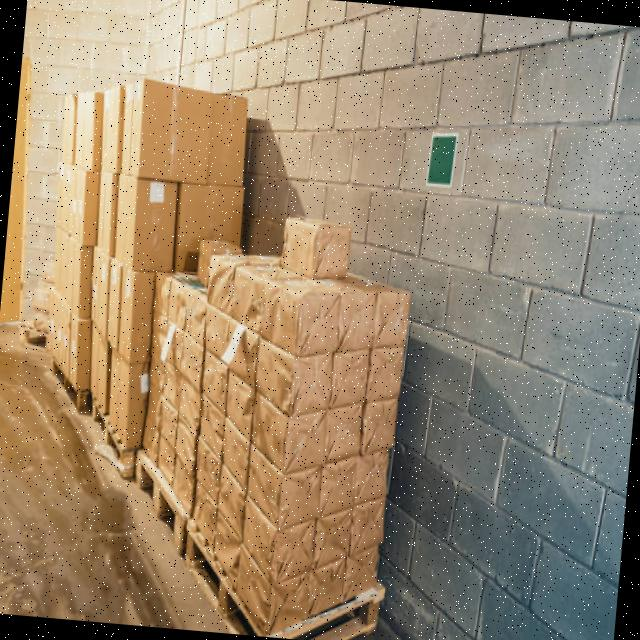Wooden-Pallets: (177, 502, 383, 640), (132, 444, 181, 551)
